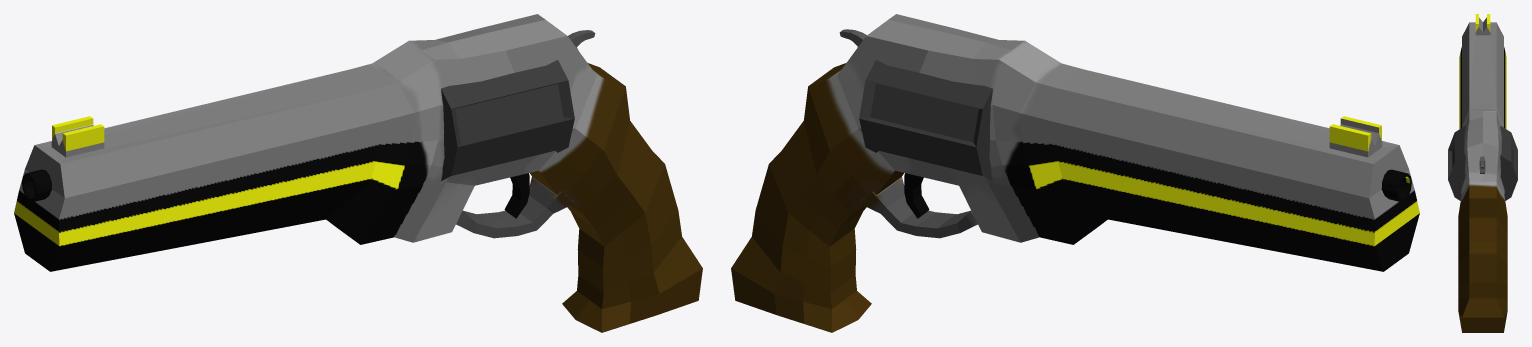
The model's file is revolverb.fbx.
3 views of the same model, side by side, from view 1: azimuth 30°, elevation 25°; view 2: azimuth 150°, elevation 25°; view 3: azimuth 270°, elevation 25° (orthographic). The views are drawn at different scales.
Visible parts, largest first — view 1: Cube, Cylinder, Cylinder.002; view 2: Cube, Cylinder, Cylinder.002; view 3: Cube, Cylinder, Cube.001.
Boxes of the visible parts, x1,y1,x2,y2 form: Cube: (14,14,702,332); Cylinder: (441,60,574,180); Cylinder.002: (22,169,51,201); Cube: (731,14,1419,332); Cylinder: (859,60,992,180); Cylinder.002: (1381,169,1411,201); Cube: (1458,14,1507,332); Cylinder: (1448,126,1517,200); Cube.001: (1479,156,1485,173).
Size of the model in its own units: 329 by 152 by 58.23.
